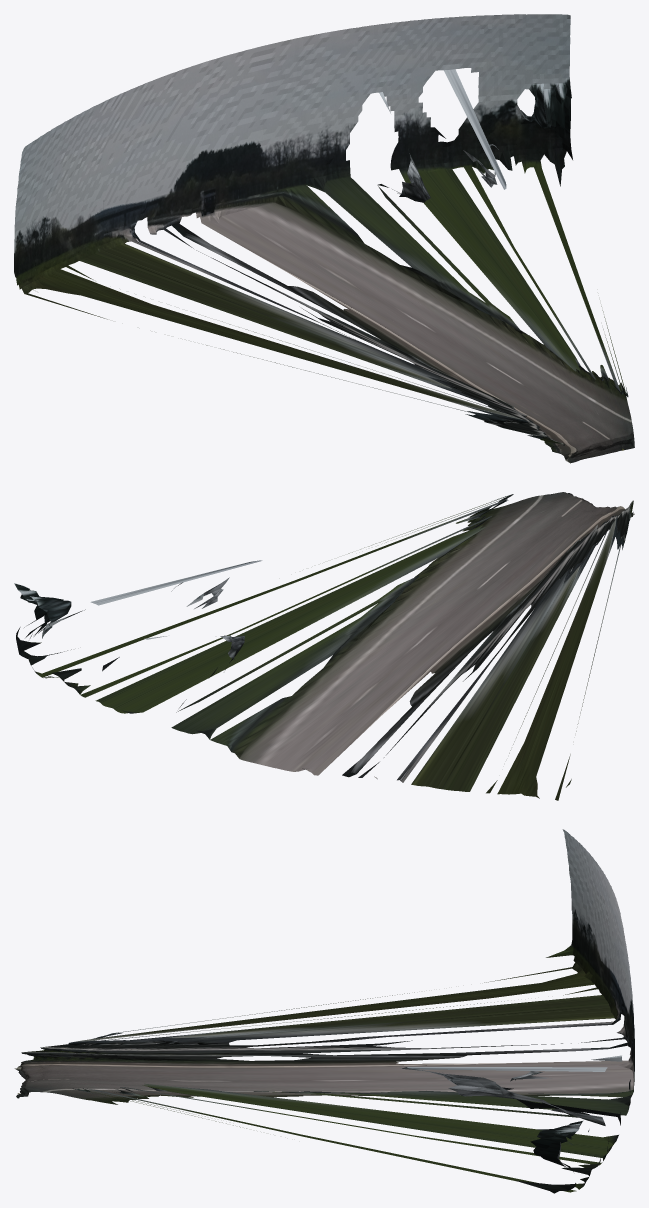
3 views of the same model, one above another, from view 1: azimuth 30°, elevation 25°; view 2: azimuth 150°, elevation 25°; view 3: azimuth 270°, elevation 25° (orthographic). The views are drawn at different scales.
Visible parts, largest first — view 1: defaultobject; view 2: defaultobject; view 3: defaultobject.
Part boxes in pixels (left/top/right/bottom): defaultobject: left=14, top=14, right=634, bottom=463; defaultobject: left=14, top=492, right=634, bottom=800; defaultobject: left=14, top=829, right=634, bottom=1193.
Size of the model in its own units: 41.09 by 11.77 by 44.48.
1 material, 1 textured.
